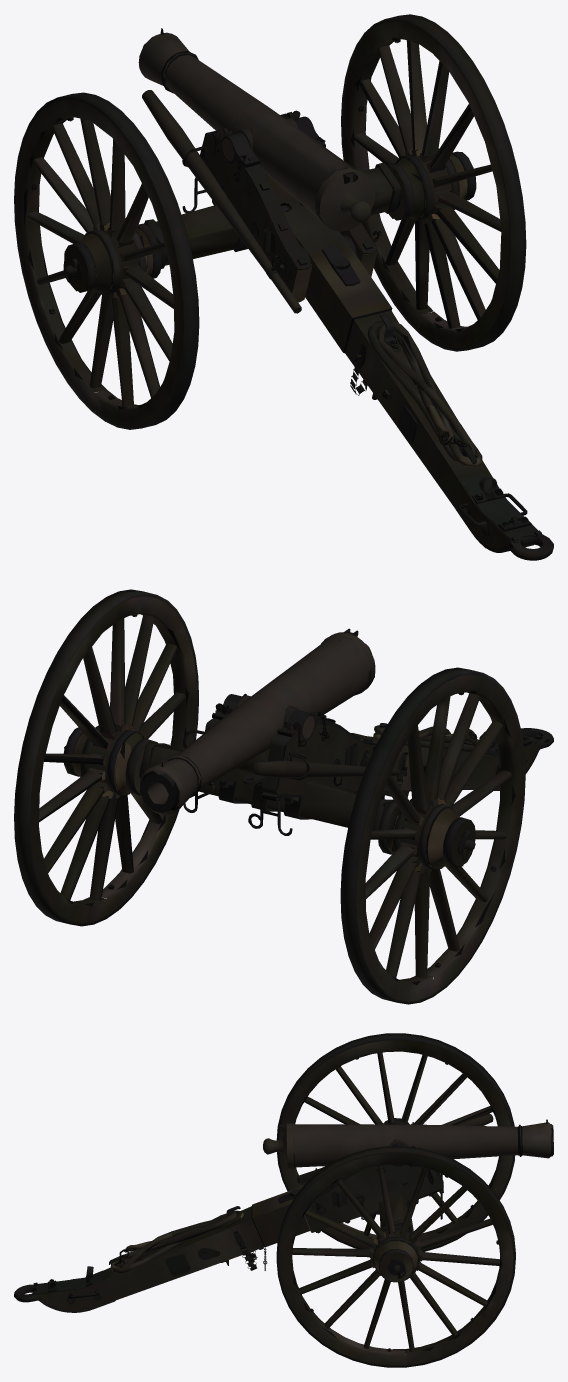
3 renders of one model, top to bottom at view 1: azimuth 30°, elevation 25°; view 2: azimuth 150°, elevation 25°; view 3: azimuth 270°, elevation 25°, orthographic. The views are drawn at different scales.
Visible parts, largest first — view 1: mesh_0; view 2: mesh_0; view 3: mesh_0.
Boxes of the visible parts, <box> form: mesh_0: <box>14,14,553,560</box>; mesh_0: <box>14,589,553,1004</box>; mesh_0: <box>14,1033,553,1367</box>.
Size of the model in its own units: 81.53 by 58.9 by 132.
1 material, 1 textured.
